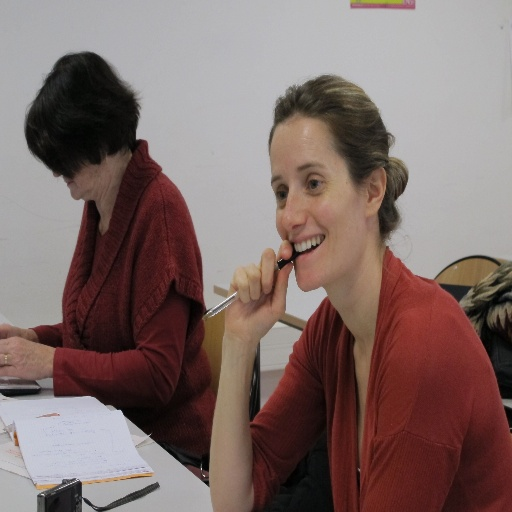hand: (216, 253, 300, 337), (0, 336, 54, 381), (0, 322, 38, 342)
